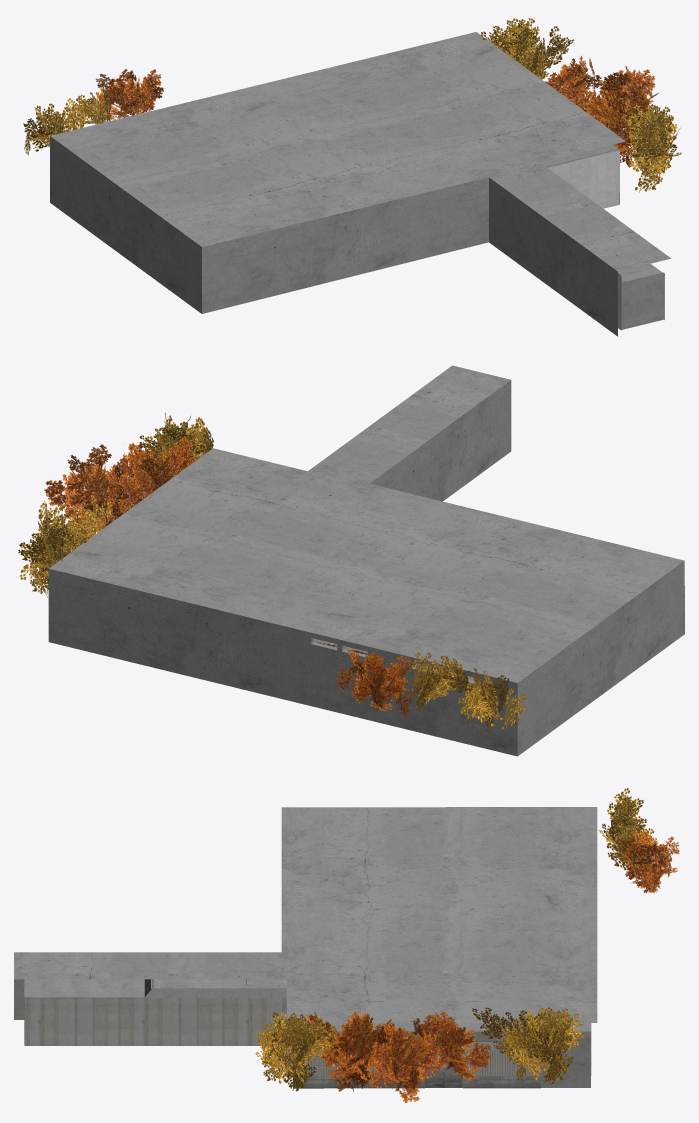
Rendered from polygon.glb.
3 views of the same model, one above another, from view 1: azimuth 30°, elevation 25°; view 2: azimuth 150°, elevation 25°; view 3: azimuth 270°, elevation 25° (orthographic). The views are drawn at different scales.
Parts seen in each view (by area): view 1: Polygon.001_1; view 2: Polygon.001_1; view 3: Polygon.001_1.
Boxes of the visible parts, x1,y1,x2,y2 form: Polygon.001_1: (23,18,681,336); Polygon.001_1: (18,365,684,756); Polygon.001_1: (14,788,679,1102).
Size of the model in its own units: 213 by 35.72 by 223.
11 materials, 11 textured.
